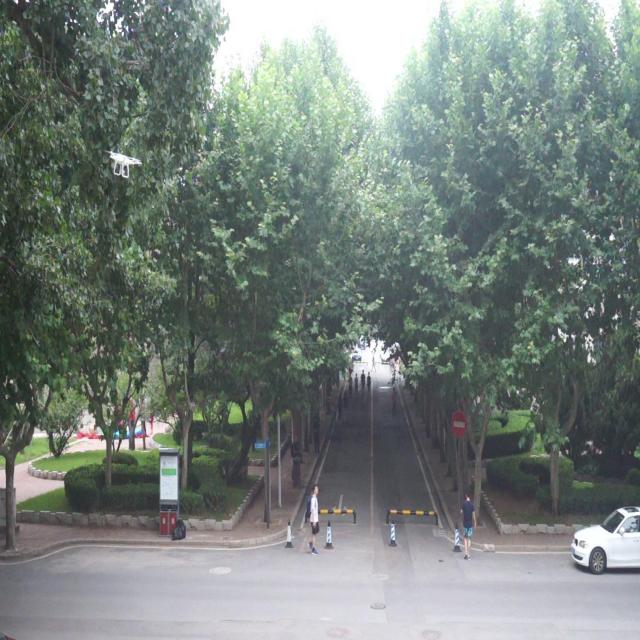UAV: (104, 150, 142, 178)
